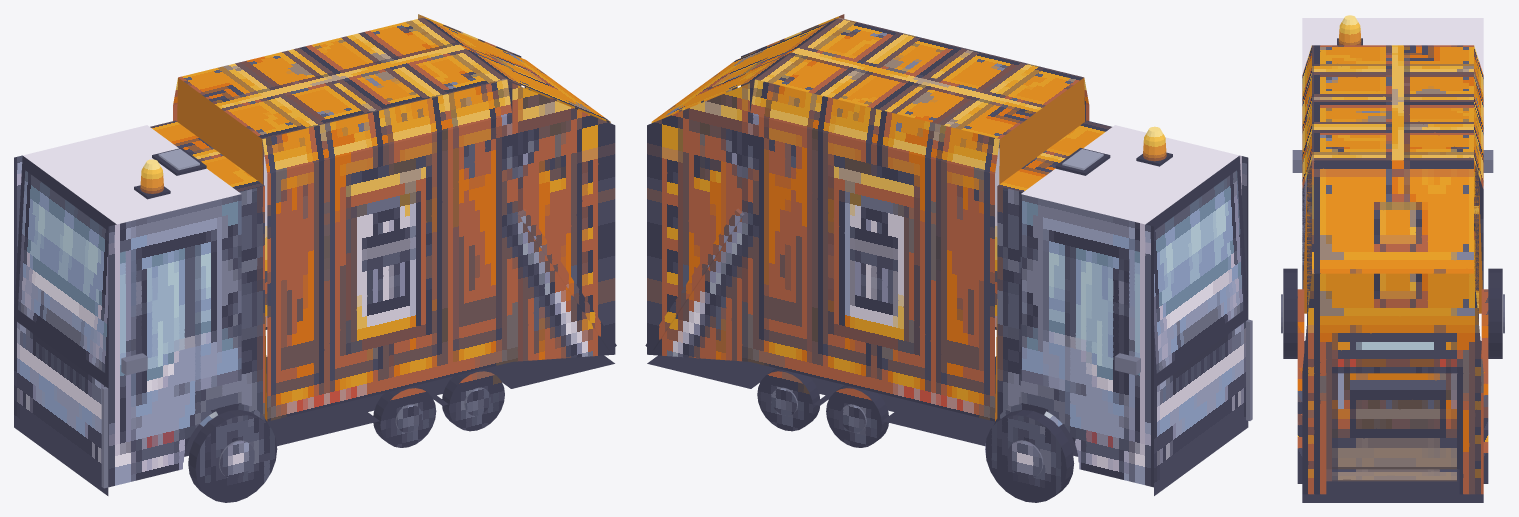
File: garbage-truck-orange-v1.glb
3 renders of one model, left to right at view 1: azimuth 30°, elevation 25°; view 2: azimuth 150°, elevation 25°; view 3: azimuth 270°, elevation 25°, orthographic. The views are drawn at different scales.
Visible parts, largest first — view 1: Container-west, Cab-west, Loader-side-west, Container-roof, Windshield-glass, Cab-roof, Front-fascia, Container-shoulder-west, Underfloor, Tire_FL, Chassis-coupling-2, Container-front (+11 smaller); view 2: Container-east, Cab-east, Loader-side-east, Container-roof, Windshield-glass, Cab-roof, Front-fascia, Container-shoulder-east, Underfloor, Tire_FR, Chassis-coupling-3, Container-front (+10 smaller); view 3: Container-roof, Loader-roof, Loader-rear-upper, Loader-mouth-back, Cab-roof, Underfloor, Loader-rear-frame-1, Loader-rear-frame--1, Loader-mouth-sill, Container-front, Tire_FL, Tire_FR (+7 smaller).
Boxes of the visible parts, x1,y1,x2,y2 form: Container-west: (267,114,512,421); Cab-west: (108,194,263,487); Loader-side-west: (512,83,615,361); Container-roof: (178,17,506,138); Windshield-glass: (18,170,108,373); Cab-roof: (23,125,240,224); Front-fascia: (14,320,108,495); Container-shoulder-west: (262,79,512,174); Underfloor: (184,355,614,456); Tire_FL: (188,410,277,502); Chassis-coupling-2: (239,186,264,417); Container-front: (177,77,267,421); Container-east: (750,114,994,421); Cab-east: (998,194,1153,487); Loader-side-east: (647,83,749,361); Container-roof: (755,17,1083,138); Windshield-glass: (1154,170,1244,373); Cab-roof: (1021,125,1239,224); Front-fascia: (1154,321,1248,495); Container-shoulder-east: (750,79,999,173); Underfloor: (647,355,1077,456); Tire_FR: (985,410,1074,502); Chassis-coupling-3: (997,186,1022,417); Container-front: (995,78,1084,421); Container-roof: (1312,45,1473,160); Loader-roof: (1312,160,1473,273); Loader-rear-upper: (1302,273,1483,373); Loader-mouth-back: (1326,373,1459,469); Cab-roof: (1302,18,1483,74); Underfloor: (1302,265,1483,502); Loader-rear-frame-1: (1459,373,1483,494); Loader-rear-frame--1: (1302,373,1326,494); Loader-mouth-sill: (1326,469,1459,481); Container-front: (1303,165,1482,313); Tire_FL: (1283,268,1297,358); Tire_FR: (1488,268,1502,358).
Size of the model in its own units: 119 by 76 by 46.9.
Materials: 1 (1 with a texture image).
